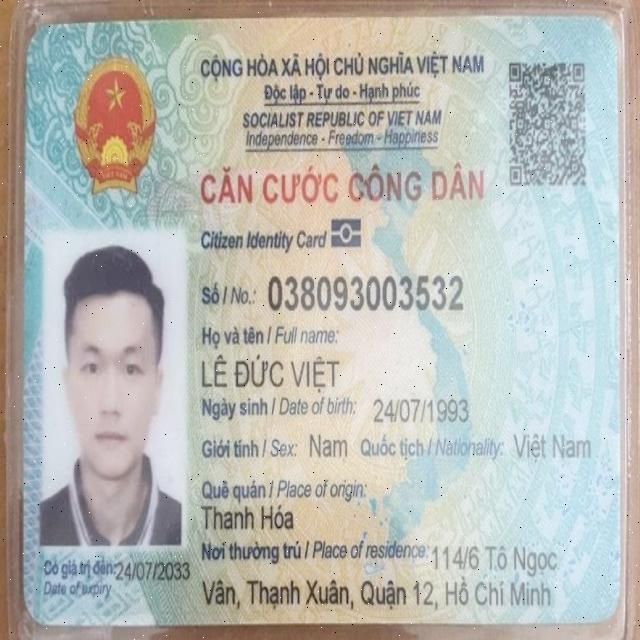current_place: (197, 571, 559, 618), (433, 537, 563, 576)
dob: (371, 397, 474, 423)
expire_date: (113, 557, 195, 589)
gender: (306, 427, 349, 466)
id: (264, 273, 467, 312)
name: (197, 347, 342, 398)
nationality: (509, 426, 595, 465)
origin_place: (200, 504, 295, 538)
